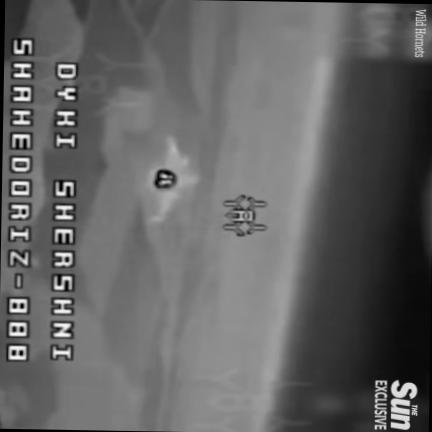Shahed: (143, 137, 196, 222)
